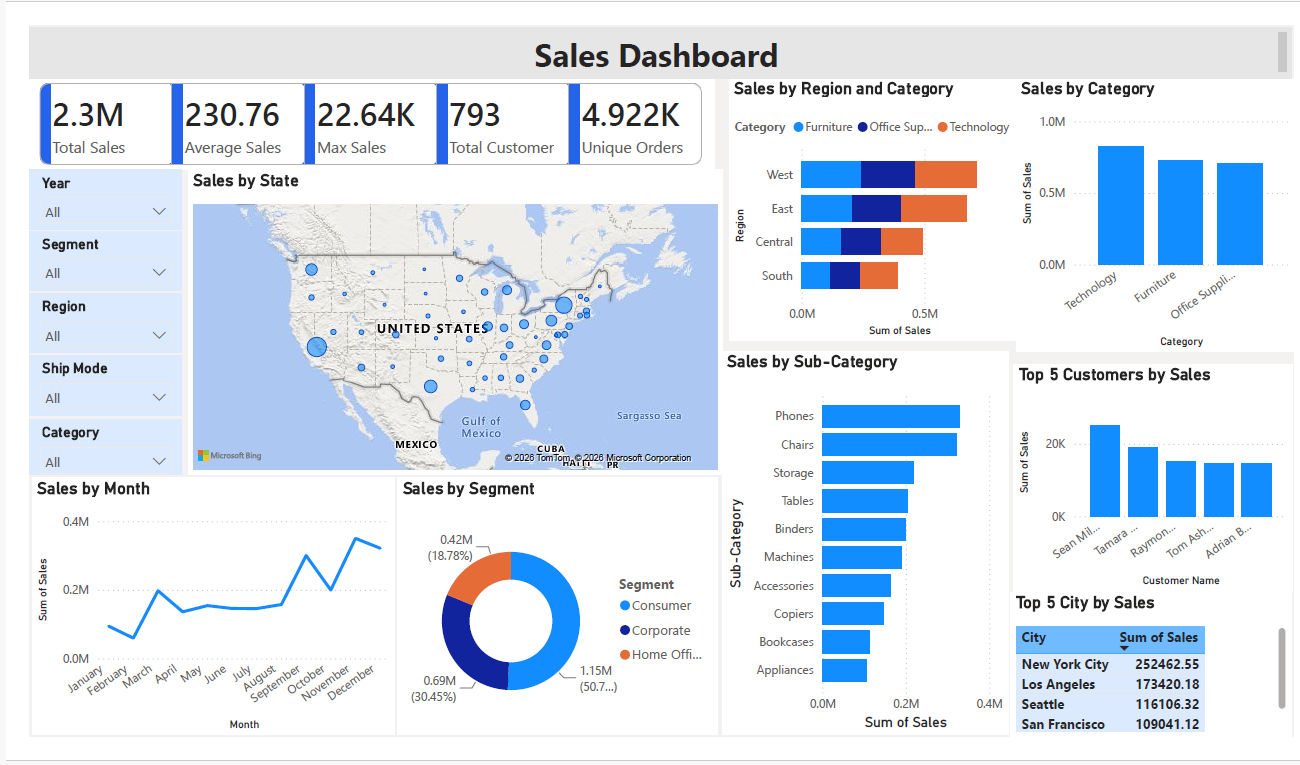

What the dashboard file says about the page in this screenshot:
{"tool":"powerbi","page":{"name":"Regional & Customer Deep Dive","canvas":[1280,720],"ordinal":1},"visuals":[{"type":"lineChart","title":"Sales by Month","fields":{"Category":["Train.Order Date.Variation.Date Hierarchy.Month"],"Y":["Sum(Train.Sales)"]},"box":[3,457.8,367.4,260.5],"z":0},{"type":"clusteredBarChart","title":"Sales by Sub-Category","fields":{"Category":["Train.Sub-Category"],"Y":["Sum(Train.Sales)"]},"box":[701.7,329.8,289.1,388.5],"z":1000},{"type":"cardVisual","fields":{"Data":["Sum(Train.Sales)3","Avg(Train.Sales)","Max(Train.Sales)1","Count(Train.Customer ID)","Train.Unique Orders"]},"box":[0,52.9,694.3,92.9],"z":2000},{"type":"clusteredColumnChart","title":"Sales by Category","fields":{"Category":["Train.Category"],"Y":["Sum(Train.Sales)"]},"box":[999.9,52.7,280.1,277.1],"z":3000},{"type":"map","title":"Sales by State","fields":{"Category":["Train.State"],"Size":["Sum(Train.Sales)"]},"box":[161.1,146.1,540.6,308.7],"z":4000},{"type":"donutChart","title":"Sales by Segment","fields":{"Category":["Train.Segment"],"Y":["Sum(Train.Sales)"]},"box":[373.5,457.8,323.8,260.5],"z":5000},{"type":"barChart","title":"Sales by Region and Category","fields":{"Category":["Train.Region"],"Y":["Sum(Train.Sales)"],"Series":["Train.Category"]},"box":[709.3,52.7,290.6,266.5],"z":6000},{"type":"slicer","fields":{"Values":["Train.Region"]},"box":[0,271.1,153.6,60.2],"z":7000},{"type":"slicer","fields":{"Values":["Train.Ship Mode"]},"box":[0,334.3,153.6,60.2],"z":8000},{"type":"slicer","fields":{"Values":["Train.Category"]},"box":[0,399.1,153.6,55.7],"z":9000},{"type":"slicer","fields":{"Values":["Train.Order Date.Variation.Date Hierarchy.Year"]},"box":[0,146.1,153.6,60.2],"z":10000},{"type":"slicer","fields":{"Values":["Train.Segment"]},"box":[0,207.8,153.6,60.2],"z":11000},{"type":"tableEx","title":"Top 5 City by Sales","fields":{"Values":["Train.City","Sum(Train.Sales)"]},"box":[993.9,573.7,284.6,146.1],"z":12000},{"type":"clusteredColumnChart","title":"Top 5 Customers by Sales","fields":{"Category":["Train.Customer Name"],"Y":["Sum(Train.Sales)"]},"box":[996.9,343.3,282.5,230.2],"z":13000},{"type":"textbox","box":[0,1.5,1278.5,51.2],"z":14000}]}

Visuals, with their boxes on the page's 1280x720 design canvas (x1, y1, x2, y2). These are canvas units, not pixel positions in the 1300x765 screenshot, which may show the page scaled, cropped or inside an application window:
"Sales by Month" lineChart: (3,458,370,718)
"Sales by Sub-Category" clusteredBarChart: (702,330,991,718)
cardVisual - Sum(Train.Sales)3 x Avg(Train.Sales): (0,53,694,146)
"Sales by Category" clusteredColumnChart: (1000,53,1280,330)
"Sales by State" map: (161,146,702,455)
"Sales by Segment" donutChart: (374,458,697,718)
"Sales by Region and Category" barChart: (709,53,1000,319)
slicer - Train.Region: (0,271,154,331)
slicer - Train.Ship Mode: (0,334,154,394)
slicer - Train.Category: (0,399,154,455)
slicer - Train.Order Date.Variation.Date Hierarchy.Year: (0,146,154,206)
slicer - Train.Segment: (0,208,154,268)
"Top 5 City by Sales" tableEx: (994,574,1278,720)
"Top 5 Customers by Sales" clusteredColumnChart: (997,343,1279,574)
textbox: (0,2,1278,53)
